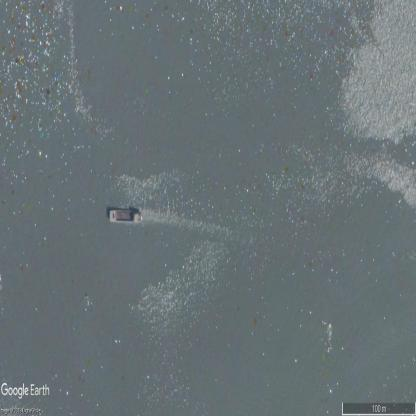ship: (108, 207, 143, 225)
